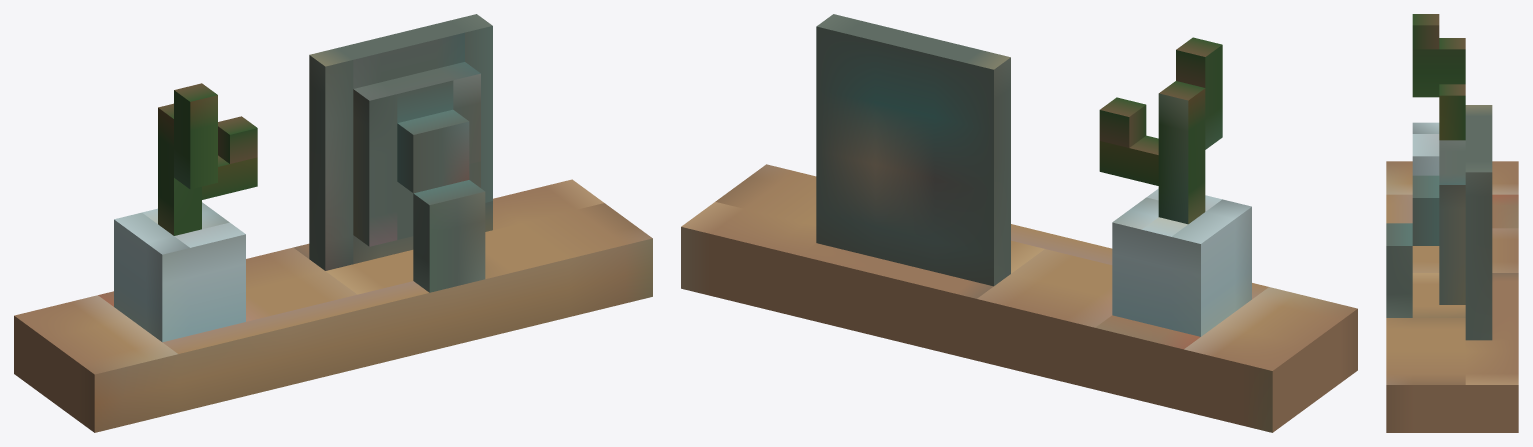
The model's file is ShelfWithItems_A_02.obj.
3 views of the same model, side by side, from view 1: azimuth 30°, elevation 25°; view 2: azimuth 150°, elevation 25°; view 3: azimuth 270°, elevation 25° (orthographic). The views are drawn at different scales.
Visible parts, largest first — view 1: ShelfWithItems_A_02; view 2: ShelfWithItems_A_02; view 3: ShelfWithItems_A_02.
Part boxes in pixels (left/top/right/bottom): ShelfWithItems_A_02: left=14, top=14, right=652, bottom=432; ShelfWithItems_A_02: left=681, top=14, right=1357, bottom=432; ShelfWithItems_A_02: left=1386, top=14, right=1518, bottom=432.
Bounding box in the file's own units: 1 × 0.5 × 0.25.
